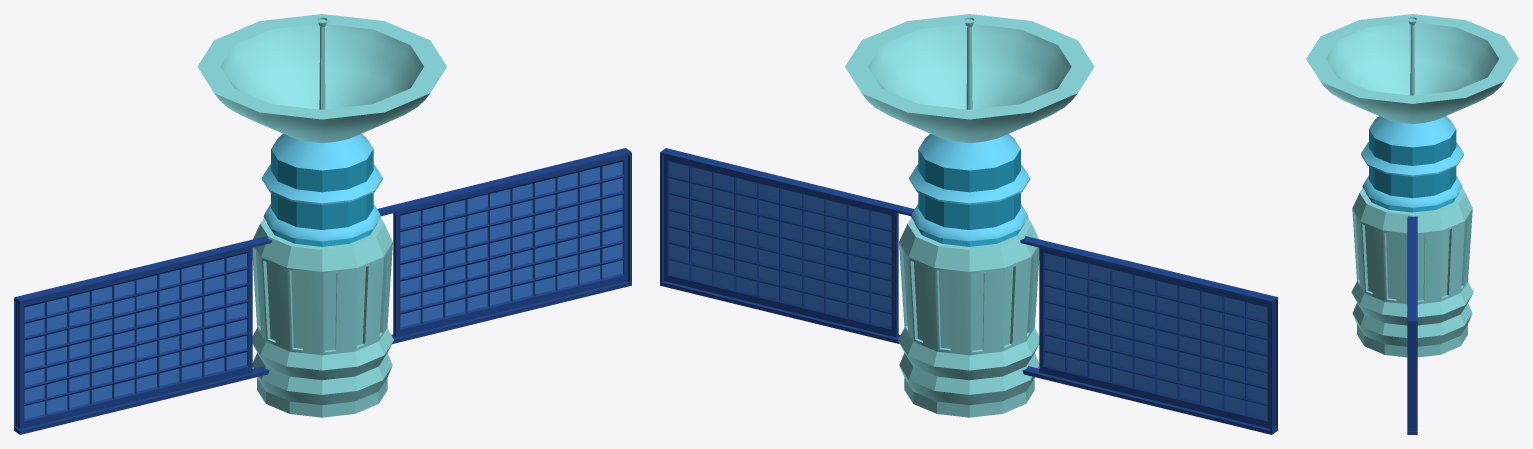
The model's file is Low_Poly_Satellite.glb.
The picture shows the model from 3 angles, left to right: view 1: azimuth 30°, elevation 25°; view 2: azimuth 150°, elevation 25°; view 3: azimuth 270°, elevation 25°; orthographic projection. The views are drawn at different scales.
Visible parts, largest first — view 1: unnamed (×10); view 2: unnamed (×10); view 3: unnamed (×7).
Boxes of the visible parts, <box> form: unnamed (×10): <box>14,14,631,434</box>; unnamed (×10): <box>660,14,1277,434</box>; unnamed (×7): <box>1306,14,1518,434</box>.
Bounding box in the file's own units: 19.75 × 11.66 × 6.98.
